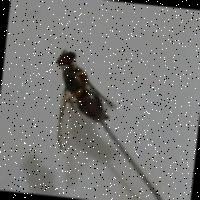Oriental-fruit-fly: (40, 40, 128, 159)
